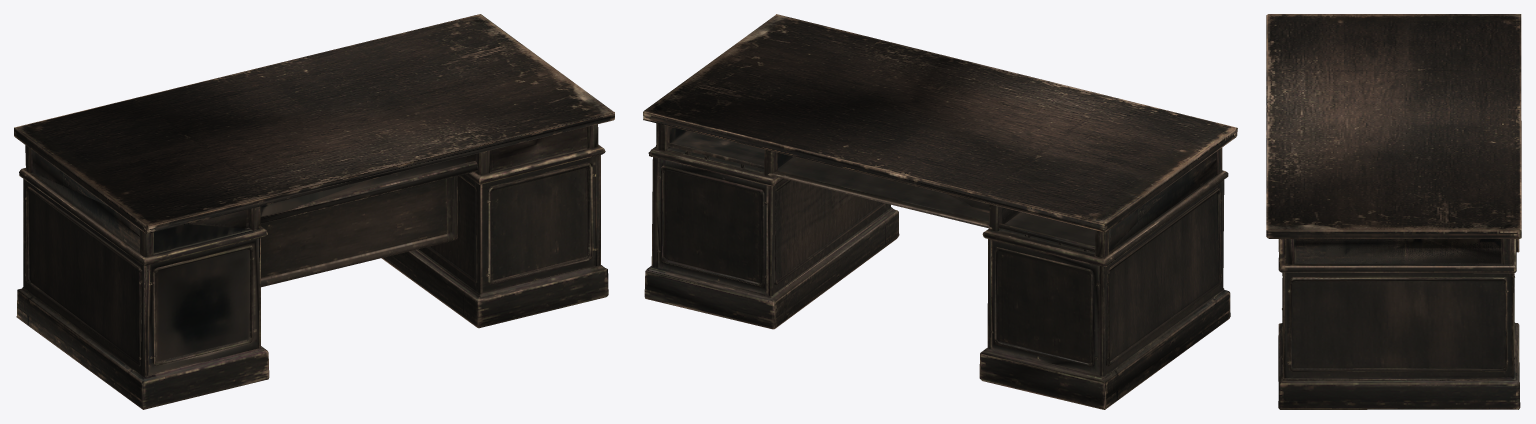
The model's file is desk2.fbx.
3 views of the same model, side by side, from view 1: azimuth 30°, elevation 25°; view 2: azimuth 150°, elevation 25°; view 3: azimuth 270°, elevation 25° (orthographic). The views are drawn at different scales.
Visible parts, largest first — view 1: mesh_node; view 2: mesh_node; view 3: mesh_node.
Part boxes in pixels (x1,y1,x2,y2): mesh_node: (14, 14, 614, 409); mesh_node: (643, 14, 1237, 409); mesh_node: (1266, 14, 1521, 409).
Size of the model in its own units: 100 by 38.96 by 50.
Materials: 1 (1 with a texture image).
